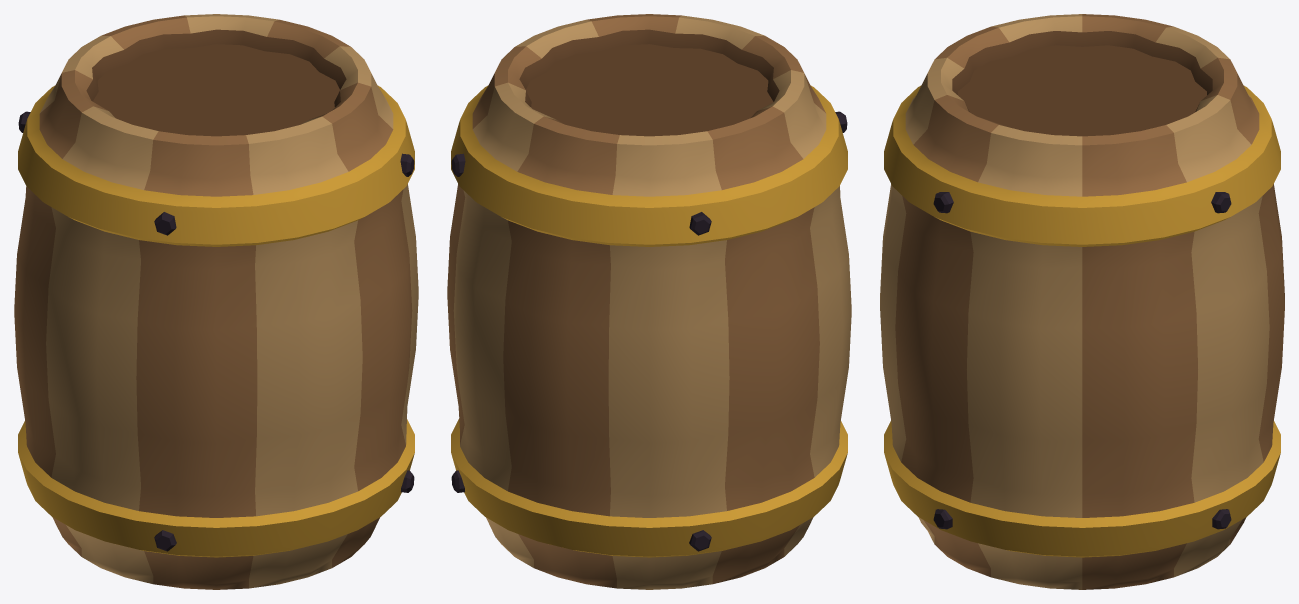
File: Barrel_30.glb
3 renders of one model, left to right at view 1: azimuth 30°, elevation 25°; view 2: azimuth 150°, elevation 25°; view 3: azimuth 270°, elevation 25°, orthographic.
Visible parts, largest first — view 1: Barrel_30; view 2: Barrel_30; view 3: Barrel_30.
Boxes of the visible parts, x1=… form: Barrel_30: x1=14, y1=14, x2=418, y2=589; Barrel_30: x1=447, y1=14, x2=851, y2=589; Barrel_30: x1=880, y1=14, x2=1284, y2=589.
Bounding box in the file's own units: 2.1 × 2.62 × 2.13.
